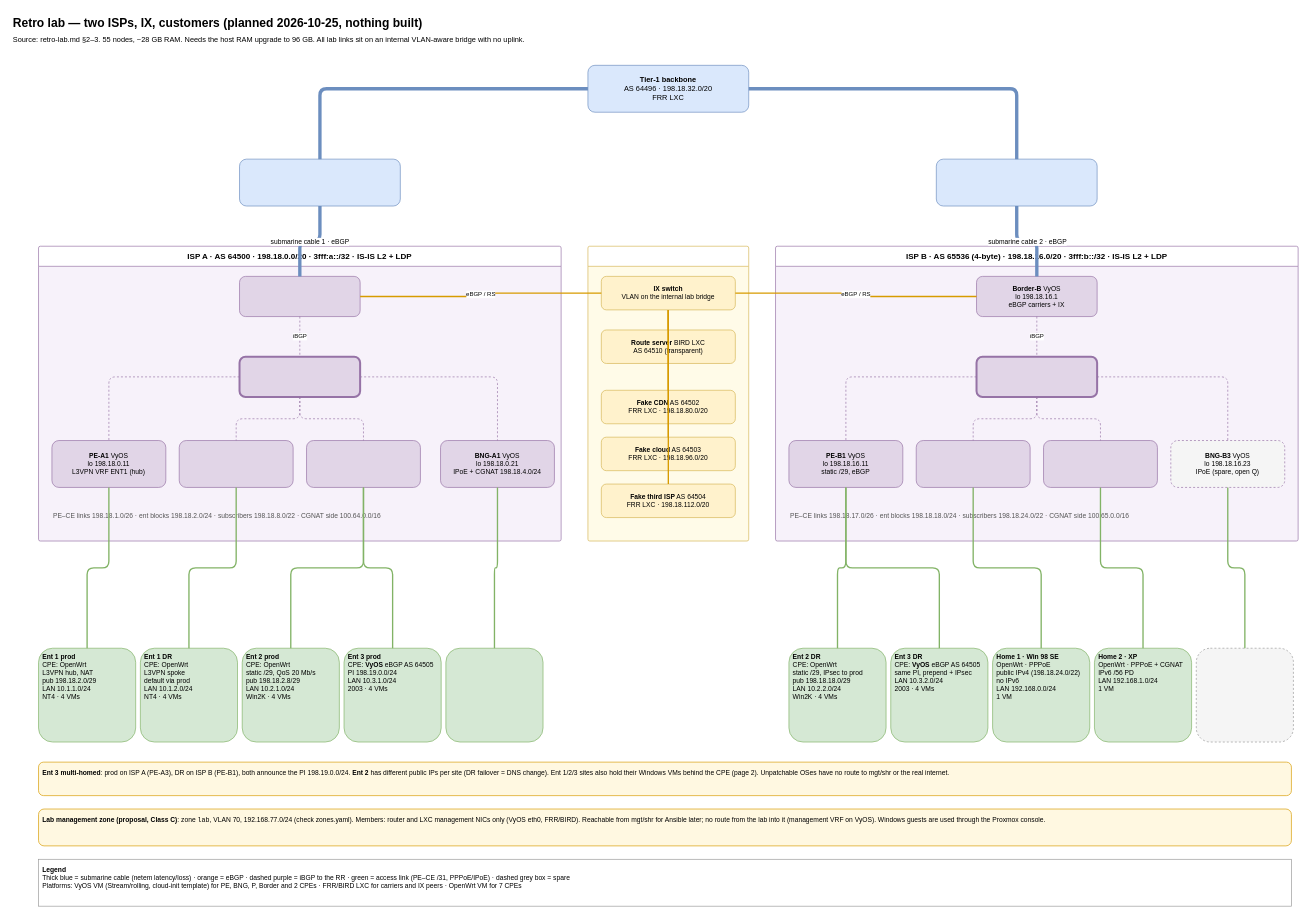
Image size: 1310x918. Some labels were removed from this diagram. Here are the shapes that lost their labels. From the top down, the box of each, then its label:
(239, 158, 400, 206): Cable 1 carrier AS 64497 · 198.18.48.0/20 FRR LXC · tc netem
(936, 158, 1097, 206): Cable 2 carrier AS 64498 · 198.18.64.0/20 FRR LXC · tc netem
(239, 276, 360, 317): Border-A VyOS lo 198.18.0.1 eBGP carriers + IX
(238, 355, 361, 398): P-A VyOS · route reflector lo 198.18.0.2 IS-IS + LDP, iBGP RR
(587, 246, 749, 541): IX · peering LAN 198.18.128.0/24 · 3fff:f::/64
(975, 355, 1098, 398): P-B VyOS · route reflector lo 198.18.16.2 IS-IS + LDP, iBGP RR
(179, 440, 293, 487): PE-A2 VyOS lo 198.18.0.12 L3VPN VRF ENT1 (spoke)
(306, 440, 420, 487): PE-A3 VyOS lo 198.18.0.13 static /29 + QoS, eBGP
(916, 440, 1030, 487): BNG-B1 VyOS lo 198.18.16.21 PPPoE, public IPv4
(1043, 440, 1157, 487): BNG-B2 VyOS lo 198.18.16.22 PPPoE + CGNAT
(445, 648, 543, 742): Home 3 · Vista OpenWrt · IPoE + CGNAT IPv6 /56 PD LAN 192.168.1.0/24 1 VM
(1196, 648, 1293, 742): spare 4th home BNG-B3 IPoE public IPv4 + /56 PD (no VM yet)
